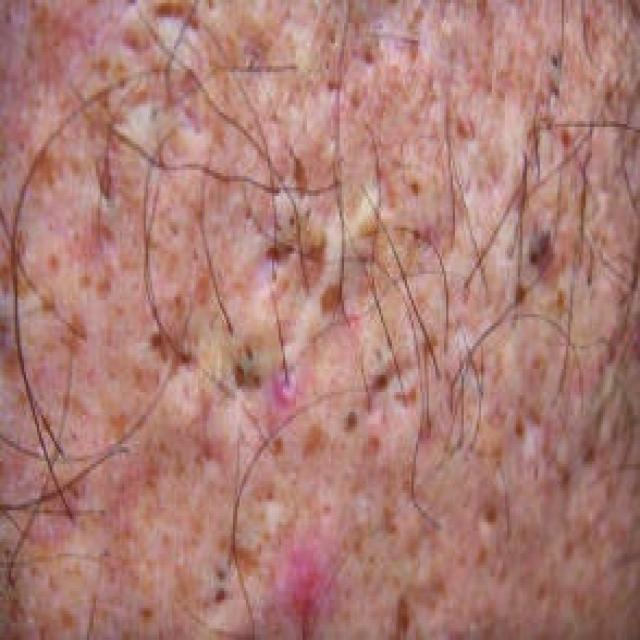Seborrheic-Keratoses-and-other-Benign-Tumors: (76, 101, 586, 600)
